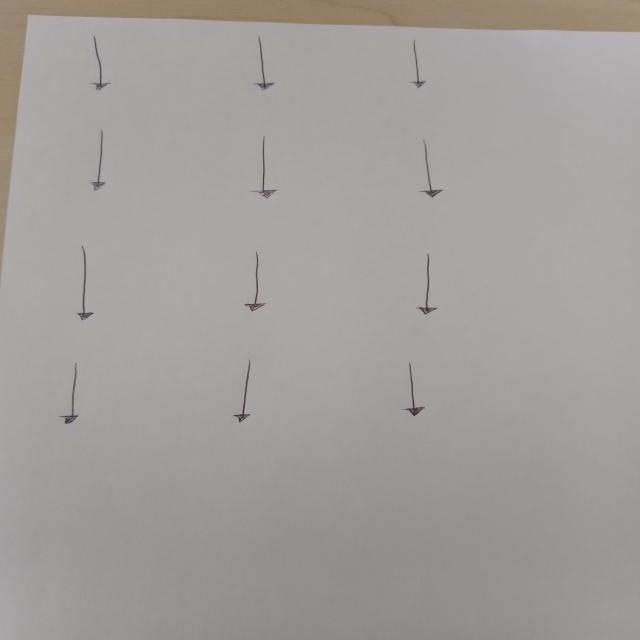arrow_line_down: (67, 241, 111, 327), (408, 130, 456, 204), (240, 37, 290, 95), (398, 38, 442, 92), (56, 361, 91, 428), (246, 250, 278, 316), (250, 135, 282, 199), (398, 358, 430, 422), (230, 359, 260, 424), (80, 38, 116, 92), (417, 251, 443, 318), (84, 132, 112, 194)
